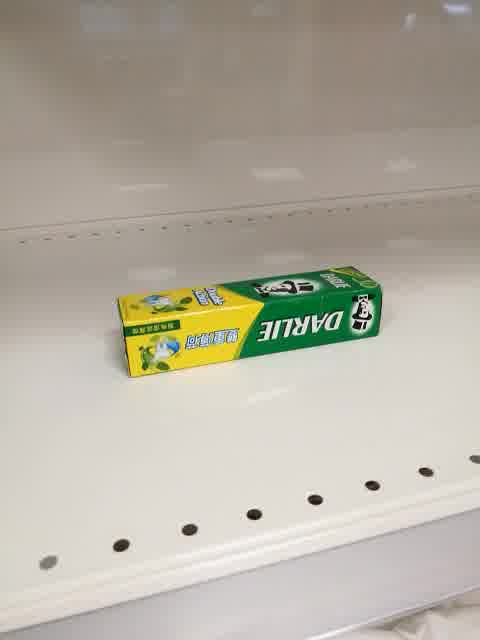toothpaste: (113, 266, 383, 380)
